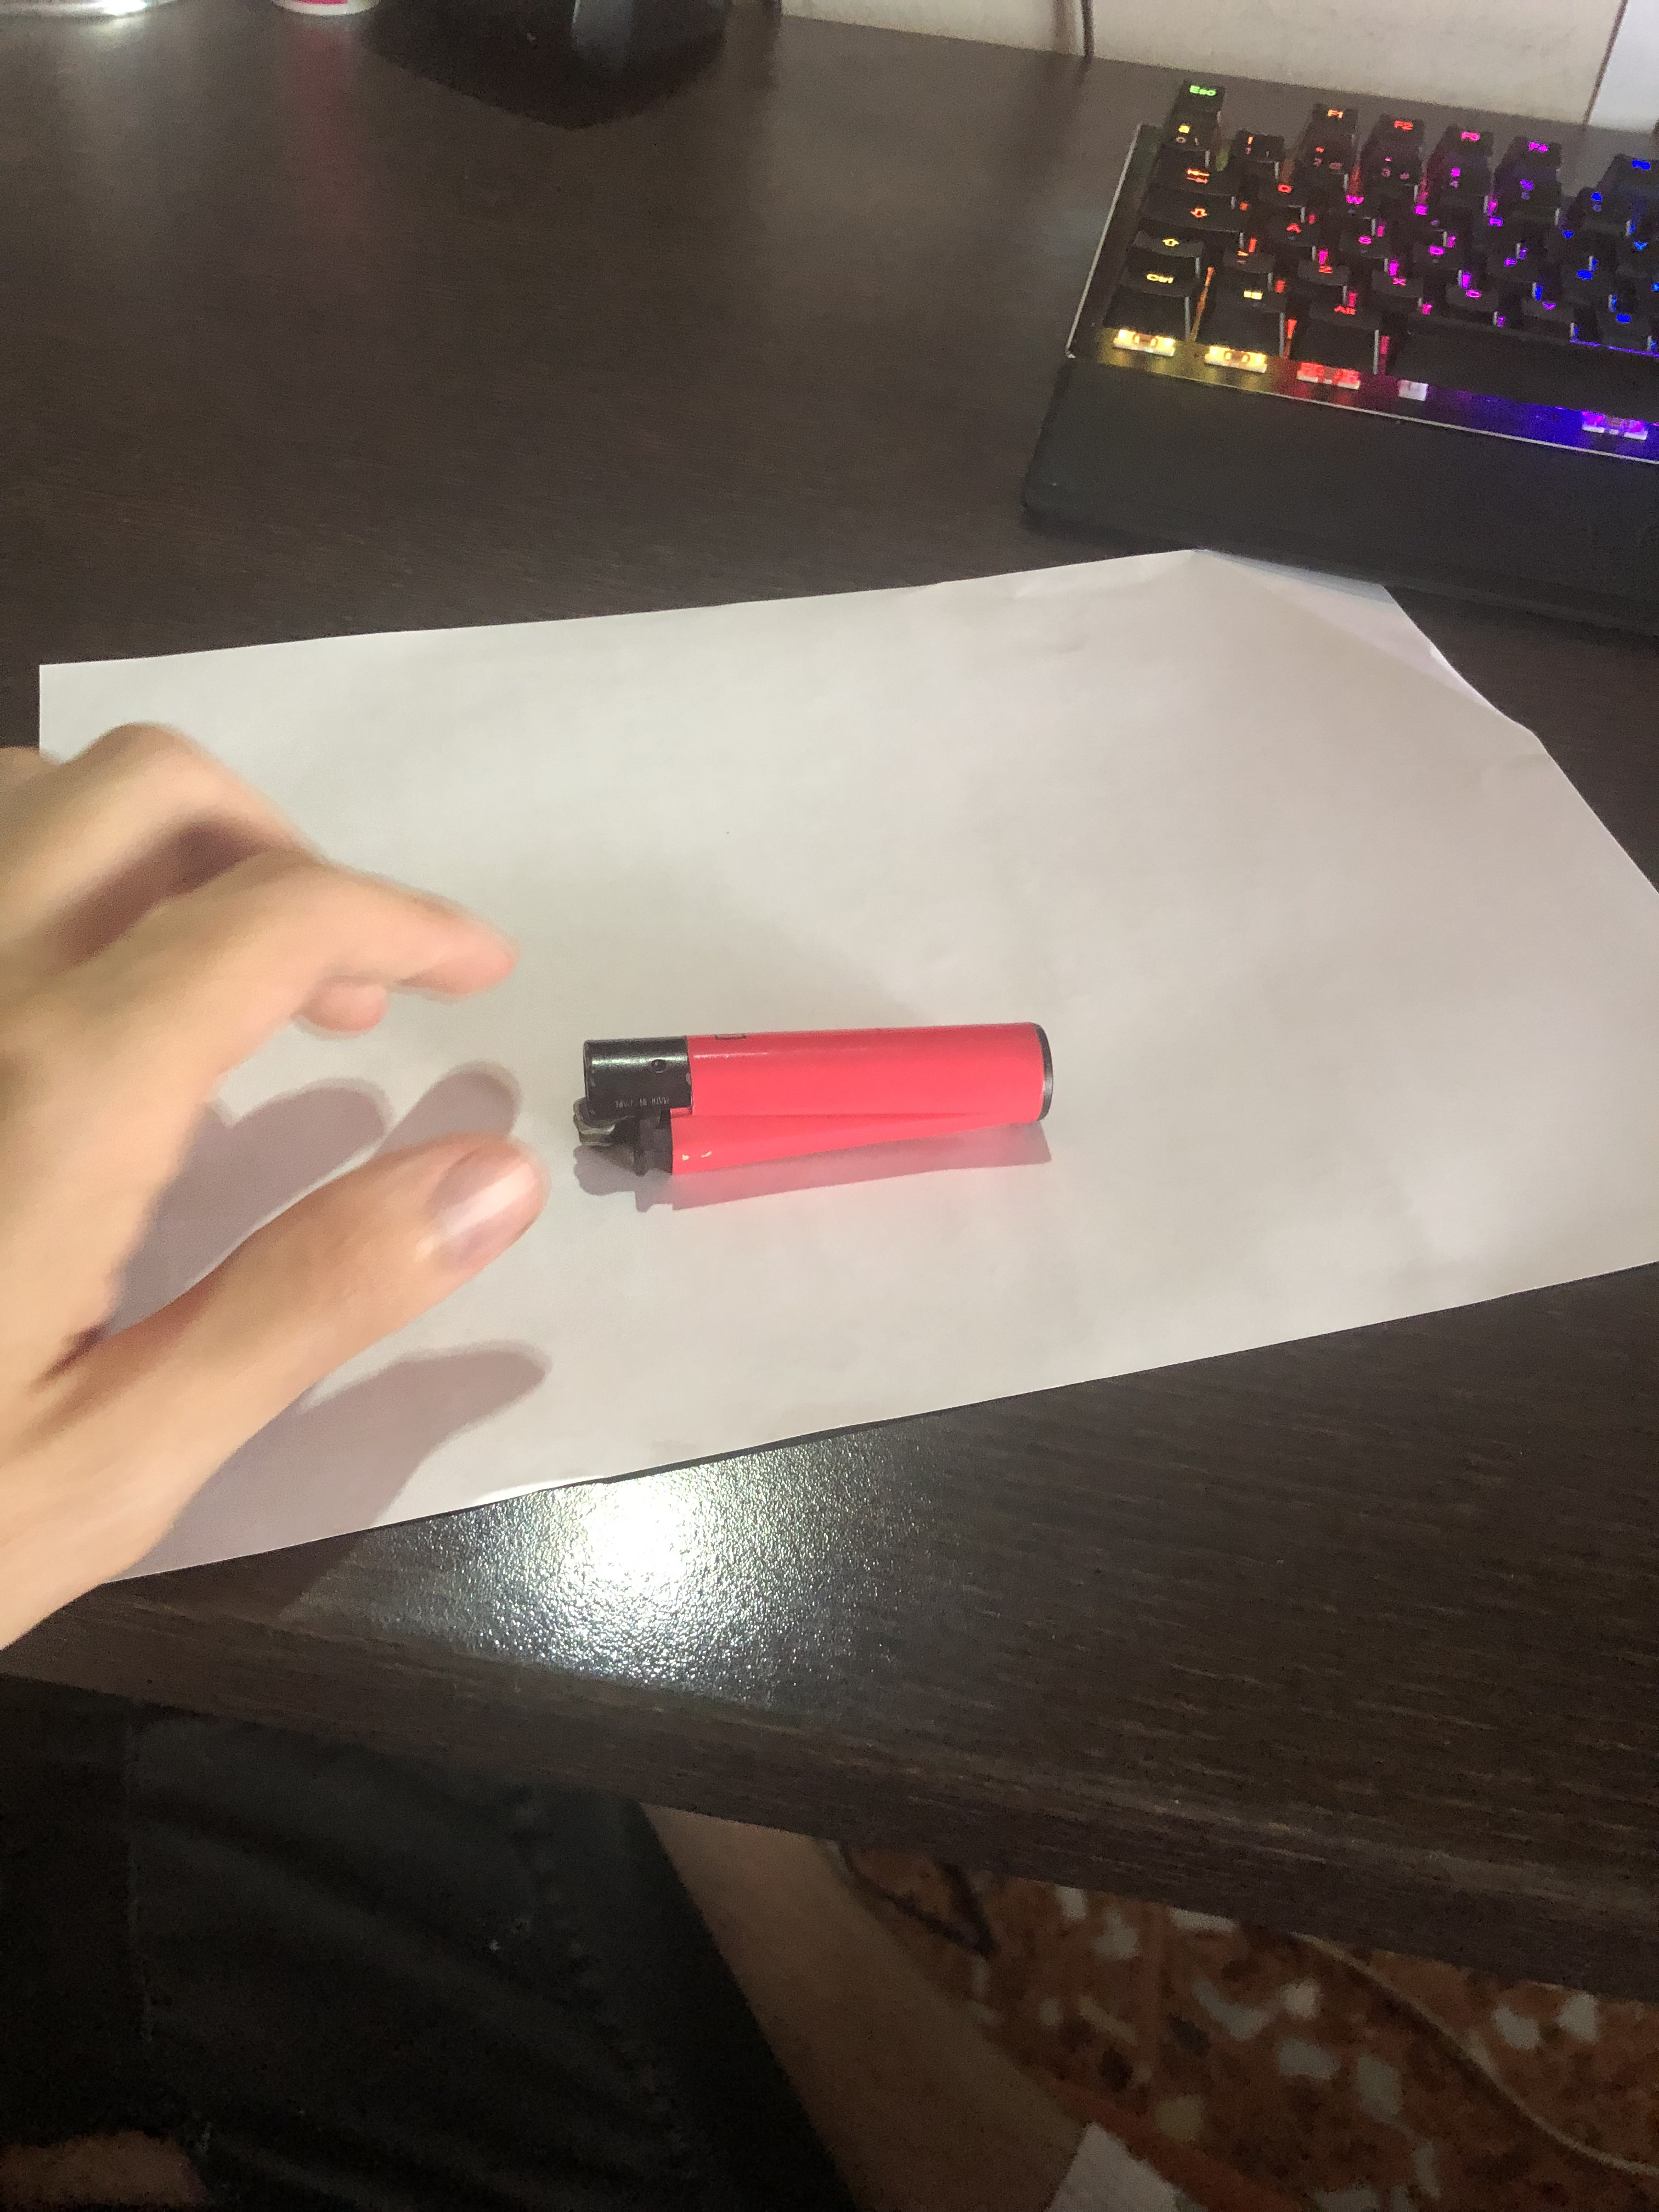Mechero: (525, 1021, 1089, 1188)
